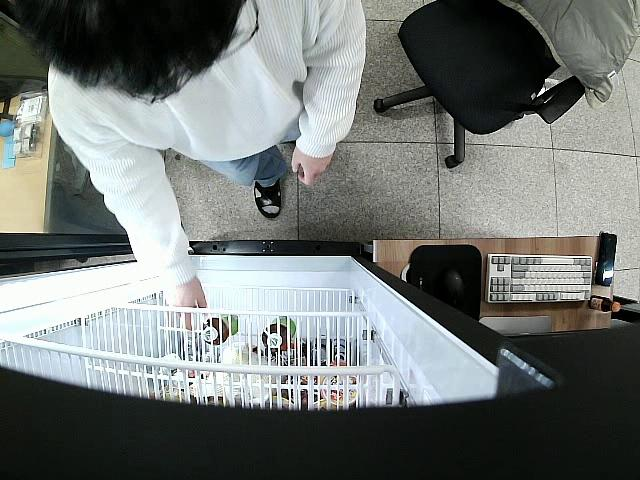00_hand: (164, 283, 206, 331), (291, 149, 334, 186)
